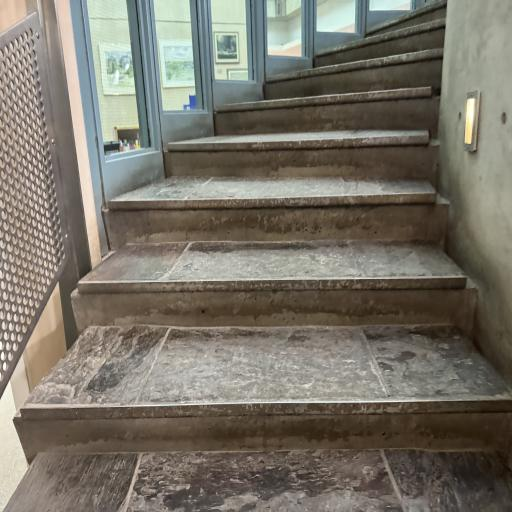Stairs: (6, 1, 512, 512), (15, 299, 512, 459), (72, 240, 475, 332), (4, 449, 512, 511), (104, 176, 448, 250), (164, 129, 439, 186), (214, 87, 440, 138), (264, 48, 443, 100), (314, 18, 446, 68), (366, 0, 448, 37)
